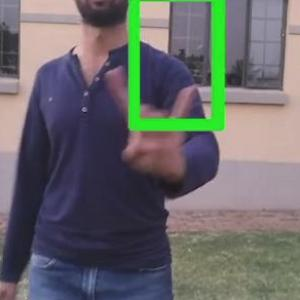takeoff-hand: (106, 55, 214, 186)
